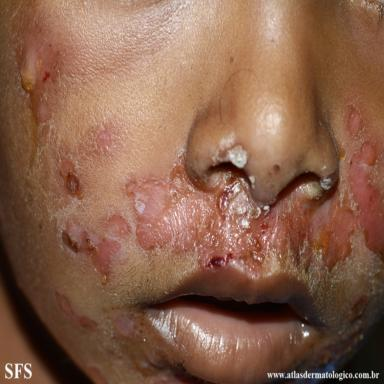Impetigo: (120, 101, 383, 336), (50, 125, 133, 290), (55, 292, 97, 328), (212, 132, 248, 168)
